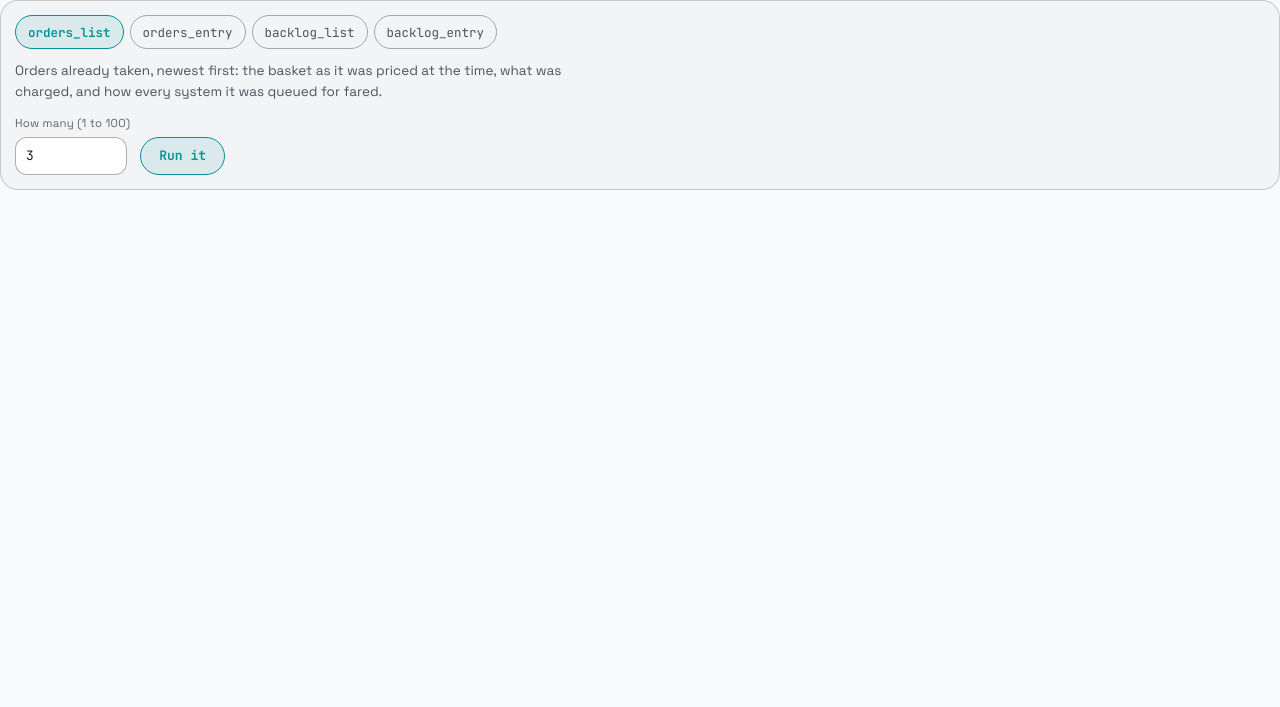
it: McpConsole › drops the answer to the old question when another tool is chosen
What coordinates should you click on to do the following:
click the button with test id "mcp-run"
I would click on:
 (183, 156)
Its box is left=140, top=137, right=225, bottom=175.
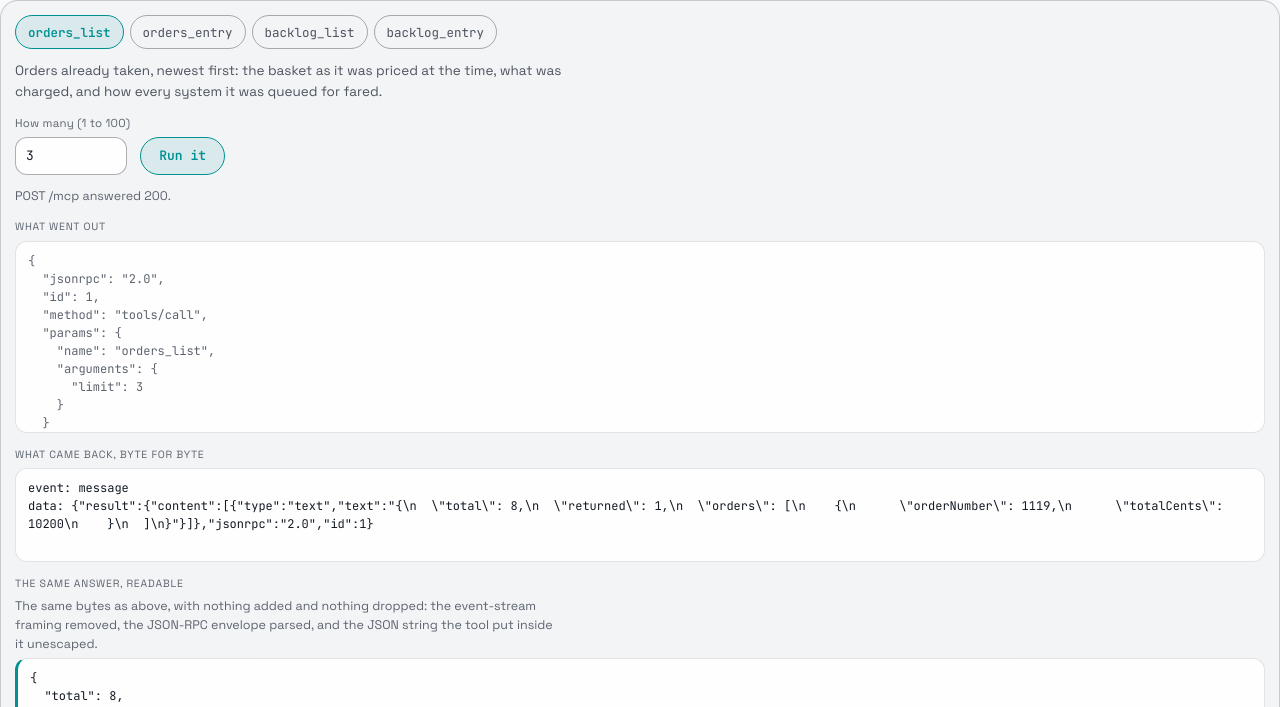
Expected: the text with test id "mcp-response" is shown, left=15, top=468, right=1265, bottom=562
What coordinates should you click on to do the following:
click the button "backlog_list"
I would click on:
 (310, 32)
Its box is left=252, top=15, right=368, bottom=49.
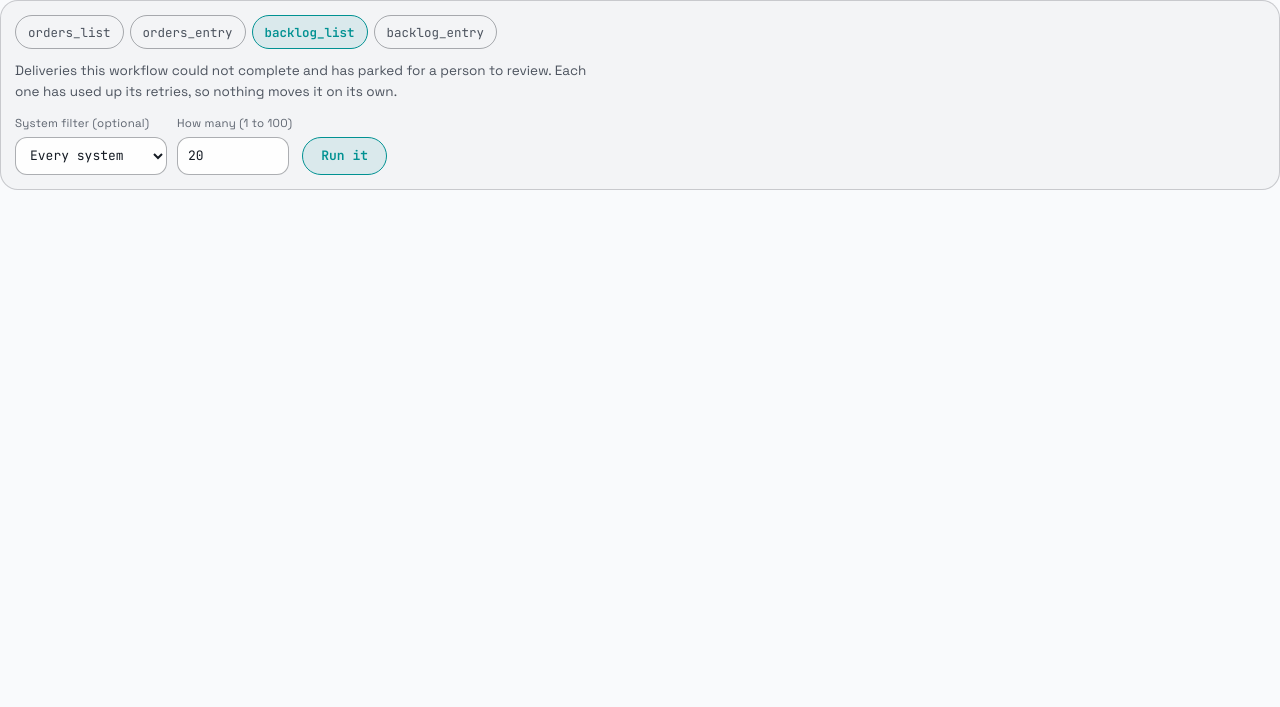
Expected: the text with test id "mcp-response" is gone
